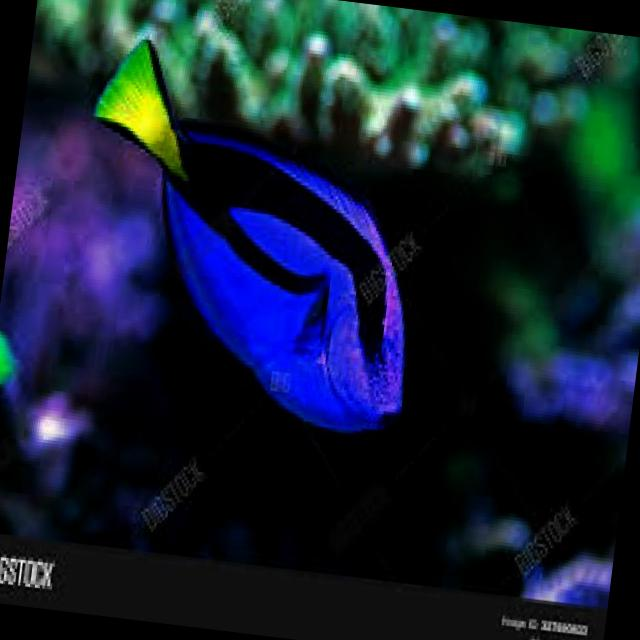TangFish: (54, 28, 445, 444)
